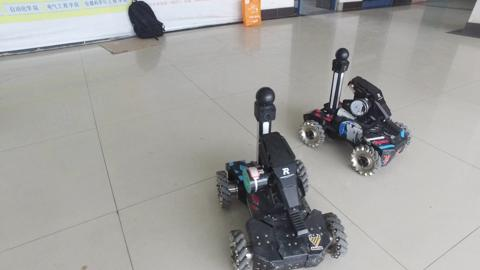chariot: (209, 86, 350, 270), (299, 43, 416, 182)
